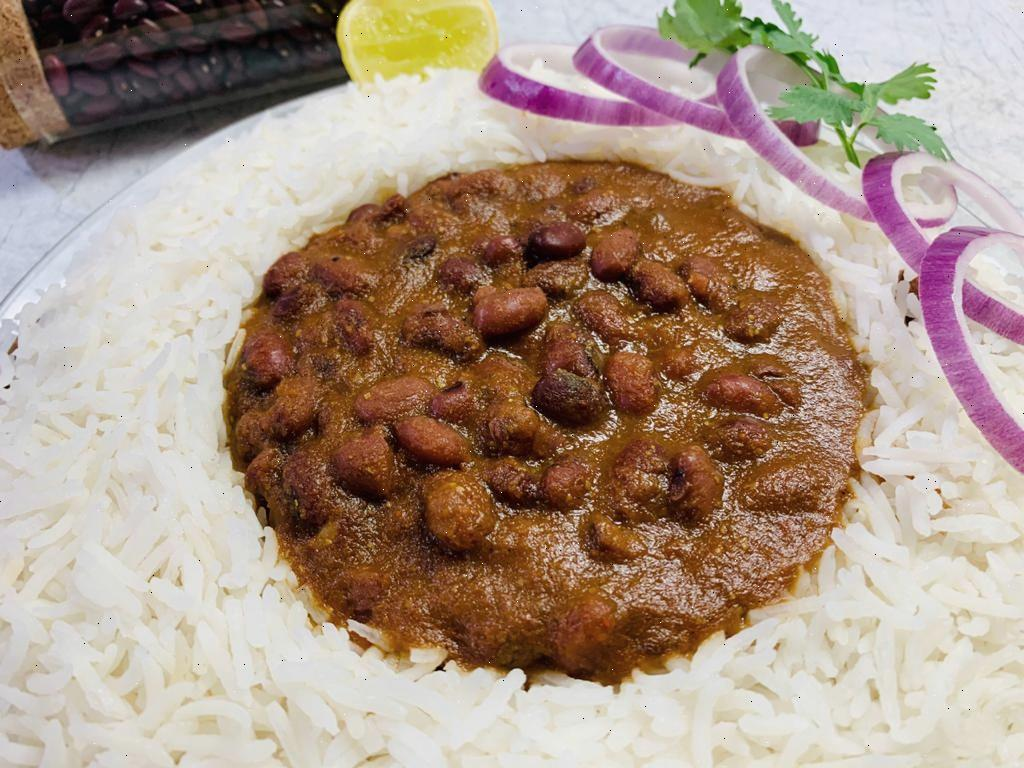rajma: (280, 238, 848, 640)
